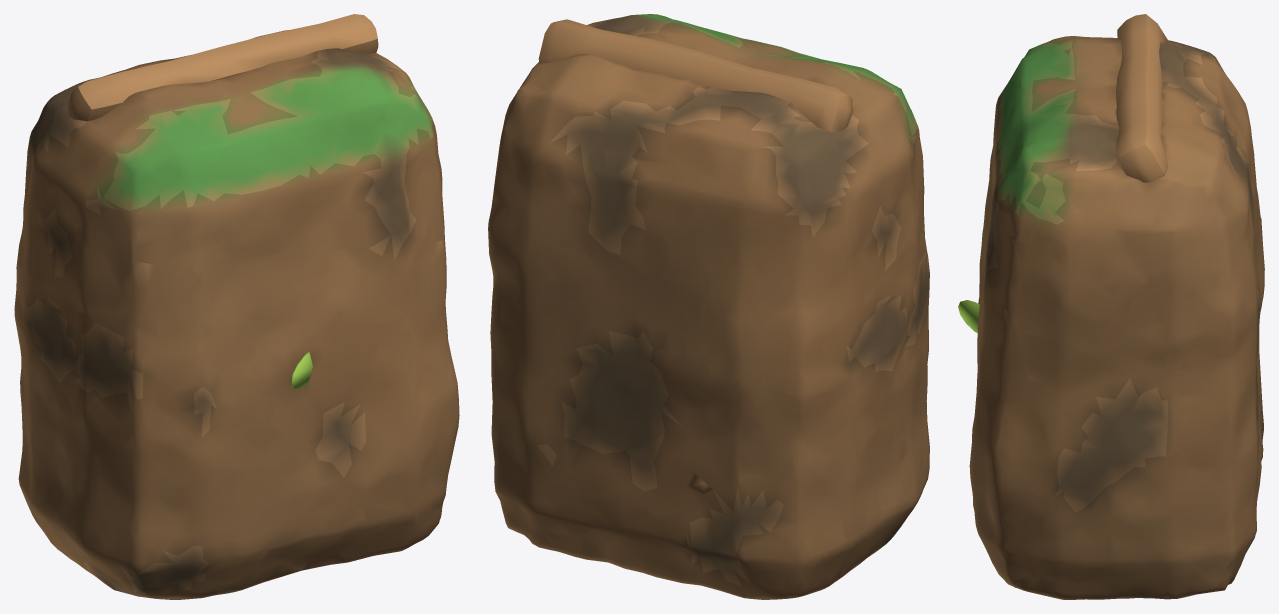
File: canopy_seed_bag.glb
The picture shows the model from 3 angles, left to right: view 1: azimuth 30°, elevation 25°; view 2: azimuth 150°, elevation 25°; view 3: azimuth 270°, elevation 25°; orthographic projection. The views are drawn at different scales.
Parts seen in each view (by area): view 1: canopy_seed_bag; view 2: canopy_seed_bag; view 3: canopy_seed_bag.
Part boxes in pixels (x1,y1,x2,y2): canopy_seed_bag: (14, 14, 459, 599); canopy_seed_bag: (488, 14, 929, 599); canopy_seed_bag: (958, 14, 1264, 599).
Bounding box in the file's own units: 26.51 × 34.97 × 20.56.
